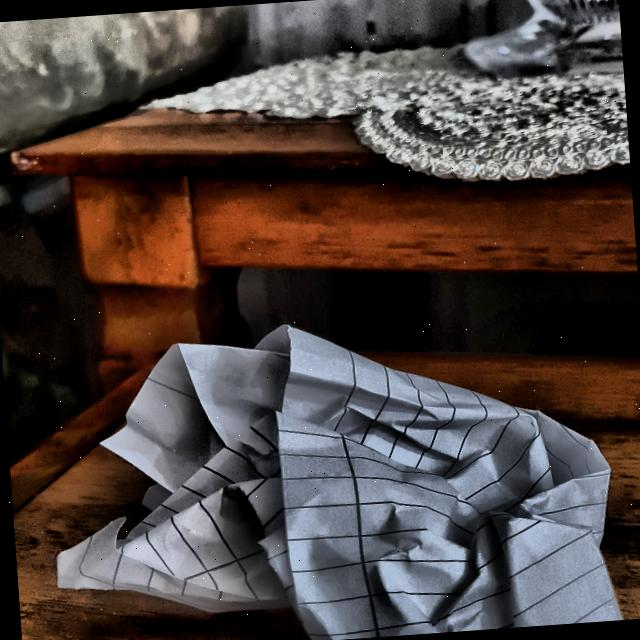paper: (45, 295, 628, 640)
